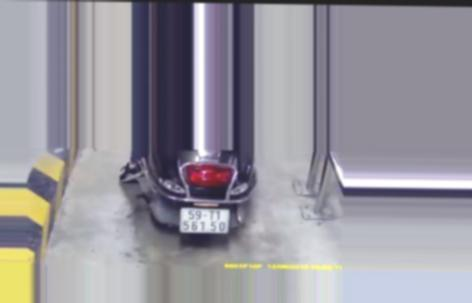License_Plate: (177, 205, 230, 237)
